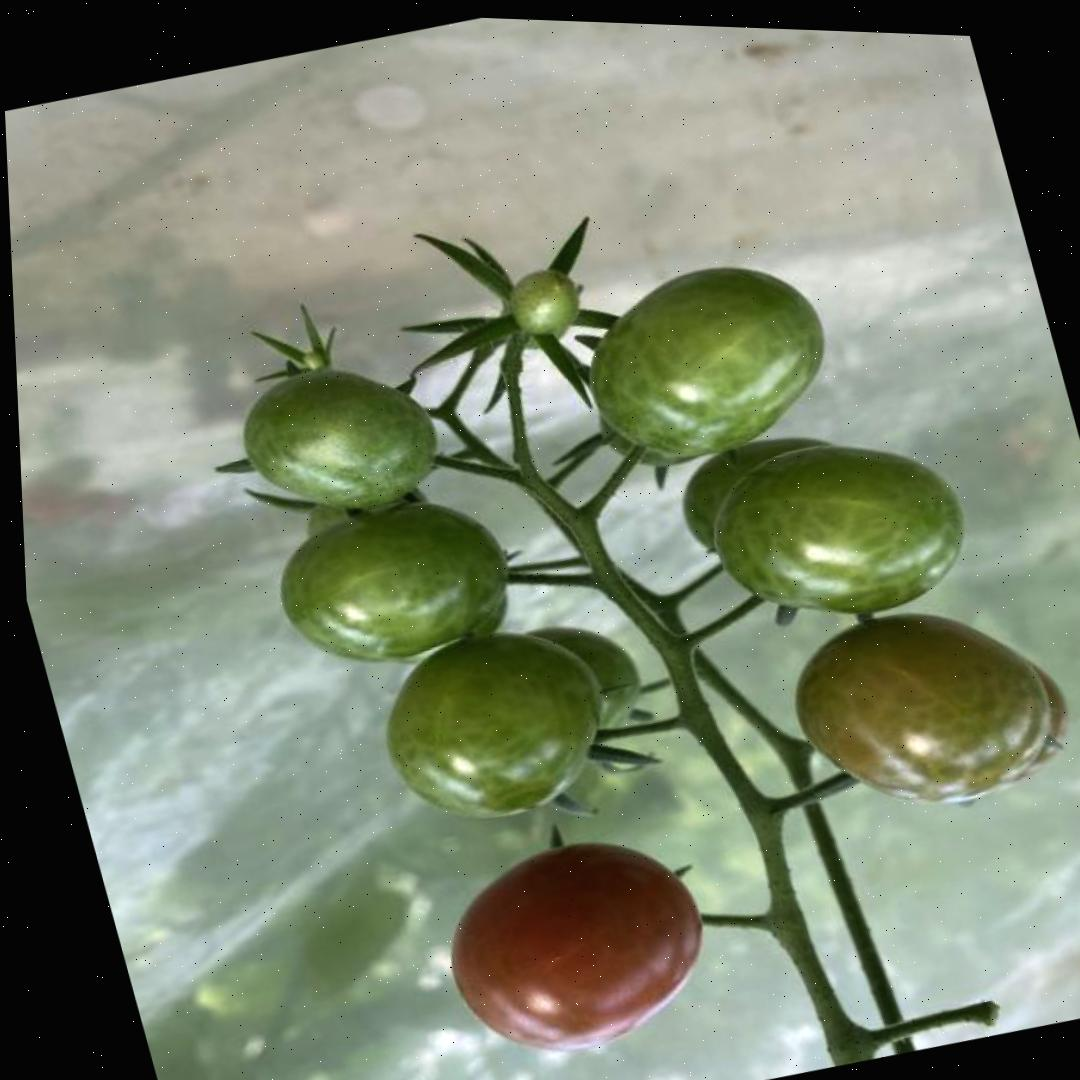matang: (423, 813, 733, 1079)
mentah: (770, 581, 1073, 837), (684, 410, 992, 648), (561, 236, 857, 483), (354, 602, 634, 846), (256, 475, 532, 691), (221, 340, 459, 536), (501, 260, 594, 347)
